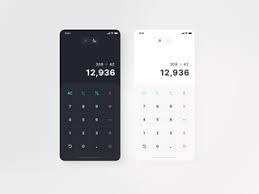Calculator: (56, 56, 122, 161)
